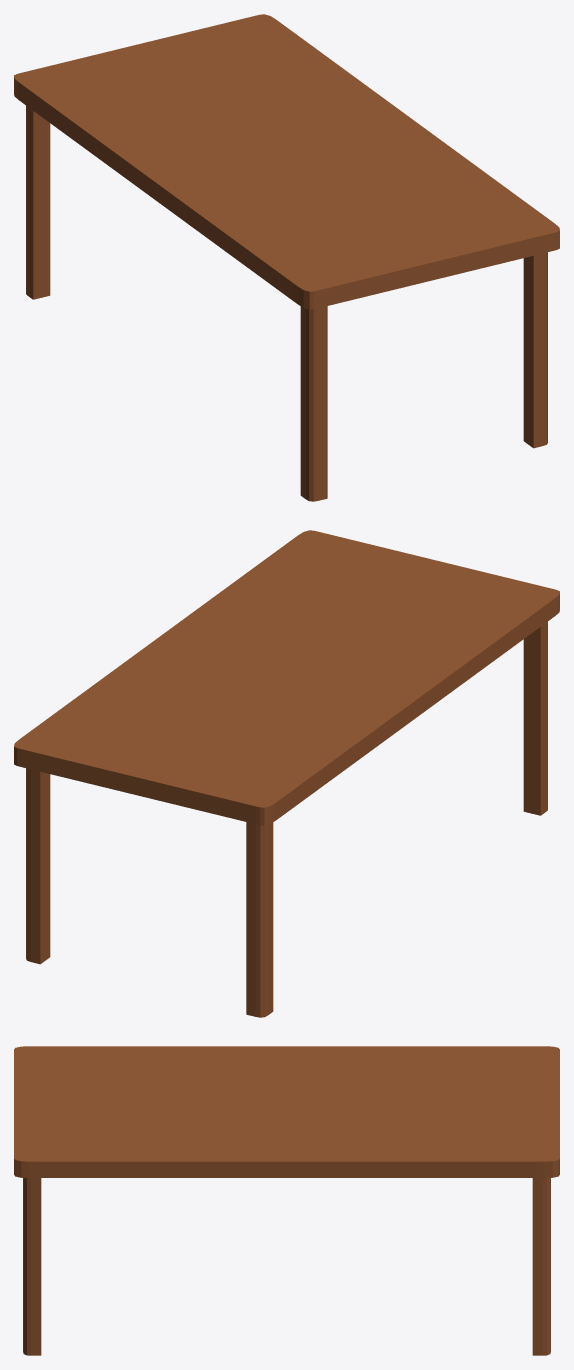
The model's file is Desk.fbx.
3 views of the same model, one above another, from view 1: azimuth 30°, elevation 25°; view 2: azimuth 150°, elevation 25°; view 3: azimuth 270°, elevation 25° (orthographic). The views are drawn at different scales.
Visible parts, largest first — view 1: Cube, Cube.001; view 2: Cube, Cube.001; view 3: Cube, Cube.001.
Boxes of the visible parts, bbox=[...] form: Cube: bbox=[14, 14, 559, 309]; Cube.001: bbox=[26, 106, 547, 501]; Cube: bbox=[14, 530, 559, 825]; Cube.001: bbox=[26, 622, 547, 1017]; Cube: bbox=[14, 1046, 559, 1177]; Cube.001: bbox=[23, 1178, 550, 1355].
Bounding box in the file's own units: 300 × 240 × 600.
